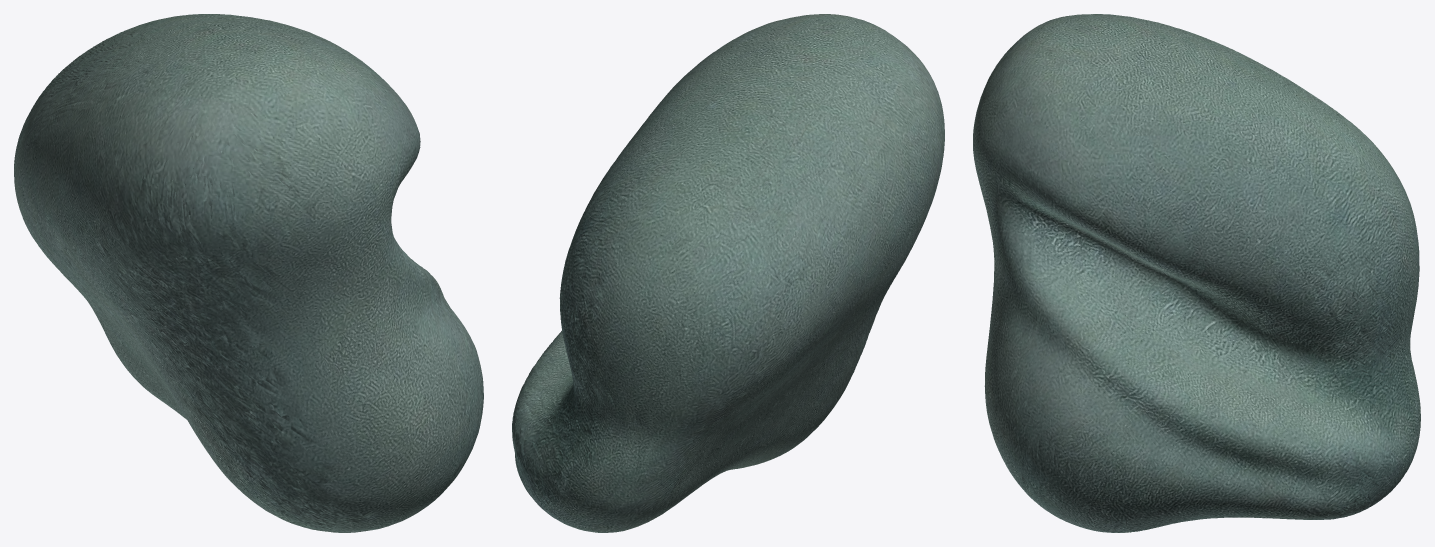
The model's file is hold-smooth-v3.glb.
3 views of the same model, side by side, from view 1: azimuth 30°, elevation 25°; view 2: azimuth 150°, elevation 25°; view 3: azimuth 270°, elevation 25° (orthographic). The views are drawn at different scales.
Parts seen in each view (by area): view 1: model; view 2: model; view 3: model.
Part boxes in pixels (bbox=[...]): model: bbox=[14, 14, 483, 532]; model: bbox=[512, 14, 944, 532]; model: bbox=[973, 14, 1420, 532].
Bounding box in the file's own units: 1.46 × 1.9 × 1.74.
1 material, 1 textured.
